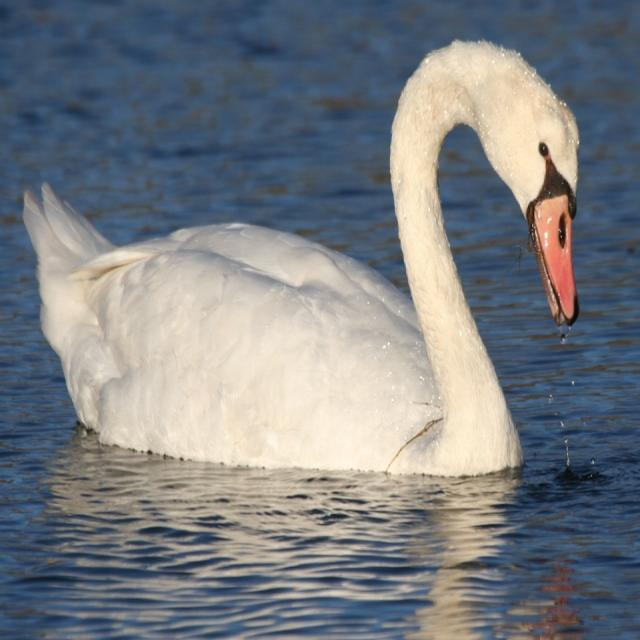bird: (16, 29, 584, 476)
